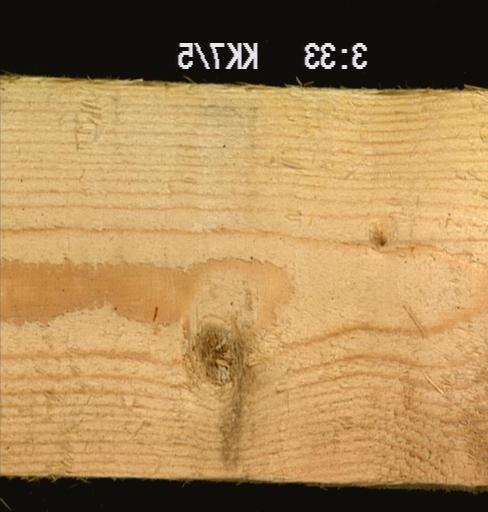small_knot: (364, 220, 391, 253)
